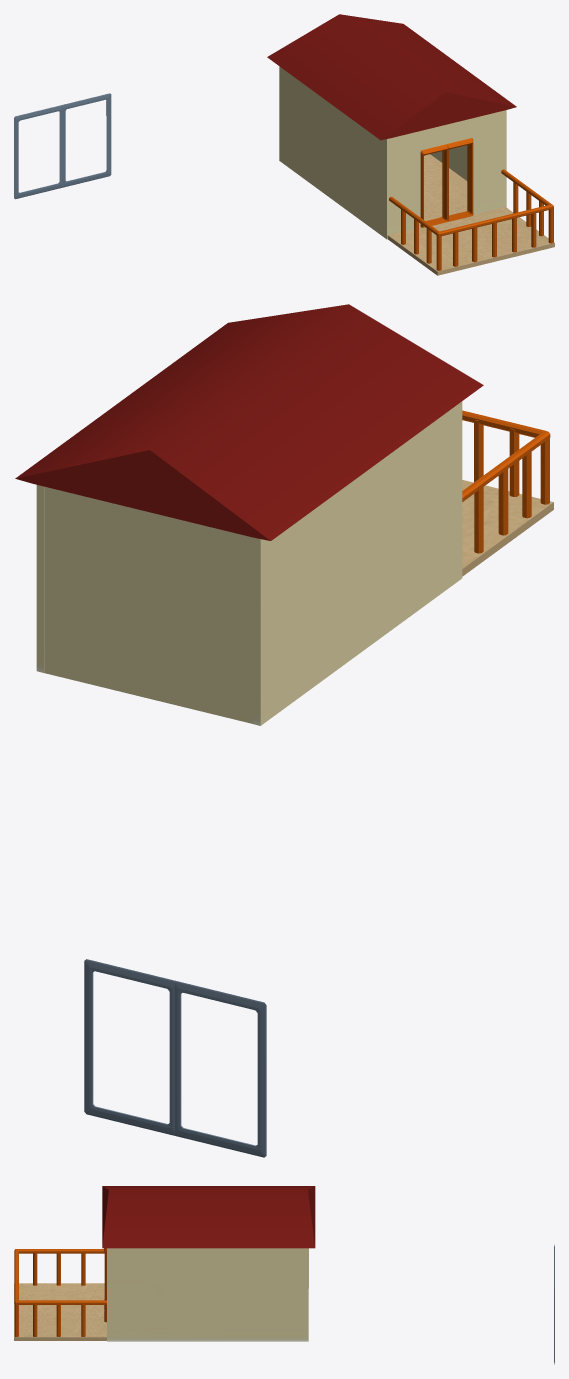
Rendered from casa6.obj.
3 views of the same model, one above another, from view 1: azimuth 30°, elevation 25°; view 2: azimuth 150°, elevation 25°; view 3: azimuth 270°, elevation 25° (orthographic). The views are drawn at different scales.
Visible parts, largest first — view 1: pasted__pasted__pasted__pasted__pCube3 pasted__pasted__pasted__g, pasted__pasted__pasted__pasted__pCube2 pasted__pasted__pasted__g, pasted__pasted__pCube3 pasted__group8 group25, pasted__pasted__pasted__pCube2 pasted__pasted__group14 pasted__g, pasted__pasted__pasted__pasted__pasted__pasted__pCube5, pasted__pasted__group31_pasted__pasted__pasted__group3_pasted__p, pasted__pasted__pasted__pasted__pasted__pasted__pCube1 pasted__p, pasted__pasted__pasted__pasted__pasted__pCube1 pasted__pasted__p, pasted__pasted__pasted__pCube2 pasted__pasted__group4 pasted__gr; view 2: pasted__pasted__pasted__pasted__pCube3 pasted__pasted__pasted__g, pasted__pasted__pCube2 pasted__group14 group29, pasted__pasted__pasted__pasted__pCube2 pasted__pasted__pasted__g, pasted__pasted__pasted__pasted__pasted__pasted__pCube5, pasted__pasted__pasted__pasted__pasted__pCube1 pasted__pasted__p, pasted__pasted__pasted__pasted__pasted__pasted__pCube1 pasted__p, pasted__pasted__pCube3 pasted__group8 group25, pasted__pasted__pasted__pCube2 pasted__pasted__group4 pasted__gr; view 3: pasted__pasted__pasted__pCube2 pasted__pasted__group4 pasted__gr, pasted__pasted__pasted__pasted__pCube3 pasted__pasted__pasted__g, pasted__pasted__pCube3 pasted__group8 group25, pasted__pasted__pasted__pasted__pasted__pasted__pCube5.
Part boxes in pixels (<box>): pasted__pasted__pasted__pasted__pCube3 pasted__pasted__pasted__g: <box>267,14,516,140</box>; pasted__pasted__pasted__pasted__pCube2 pasted__pasted__pasted__g: <box>279,66,390,239</box>; pasted__pasted__pCube3 pasted__group8 group25: <box>387,154,554,275</box>; pasted__pasted__pasted__pCube2 pasted__pasted__group14 pasted__g: <box>390,111,502,234</box>; pasted__pasted__pasted__pasted__pasted__pasted__pCube5: <box>389,169,553,270</box>; pasted__pasted__group31_pasted__pasted__pasted__group3_pasted__p: <box>420,138,473,227</box>; pasted__pasted__pasted__pasted__pasted__pasted__pCube1 pasted__p: <box>62,93,111,187</box>; pasted__pasted__pasted__pasted__pasted__pCube1 pasted__pasted__p: <box>14,105,62,199</box>; pasted__pasted__pasted__pCube2 pasted__pasted__group4 pasted__gr: <box>430,110,506,207</box>; pasted__pasted__pasted__pasted__pCube3 pasted__pasted__pasted__g: <box>15,304,483,540</box>; pasted__pasted__pCube2 pasted__group14 group29: <box>39,486,253,723</box>; pasted__pasted__pasted__pasted__pCube2 pasted__pasted__pasted__g: <box>253,401,462,725</box>; pasted__pasted__pasted__pasted__pasted__pasted__pCube5: <box>462,410,550,553</box>; pasted__pasted__pasted__pasted__pasted__pCube1 pasted__pasted__p: <box>175,981,266,1157</box>; pasted__pasted__pasted__pasted__pasted__pasted__pCube1 pasted__p: <box>84,959,175,1135</box>; pasted__pasted__pCube3 pasted__group8 group25: <box>462,480,553,576</box>; pasted__pasted__pasted__pCube2 pasted__pasted__group4 pasted__gr: <box>36,485,44,672</box>; pasted__pasted__pasted__pCube2 pasted__pasted__group4 pasted__gr: <box>107,1248,308,1341</box>; pasted__pasted__pasted__pasted__pCube3 pasted__pasted__pasted__g: <box>102,1186,315,1248</box>; pasted__pasted__pCube3 pasted__group8 group25: <box>14,1283,106,1340</box>; pasted__pasted__pasted__pasted__pasted__pasted__pCube5: <box>14,1249,106,1336</box>.
Bounding box in the file's own units: 669 × 572 × 1277.
Materials: 22 (22 with a texture image).
